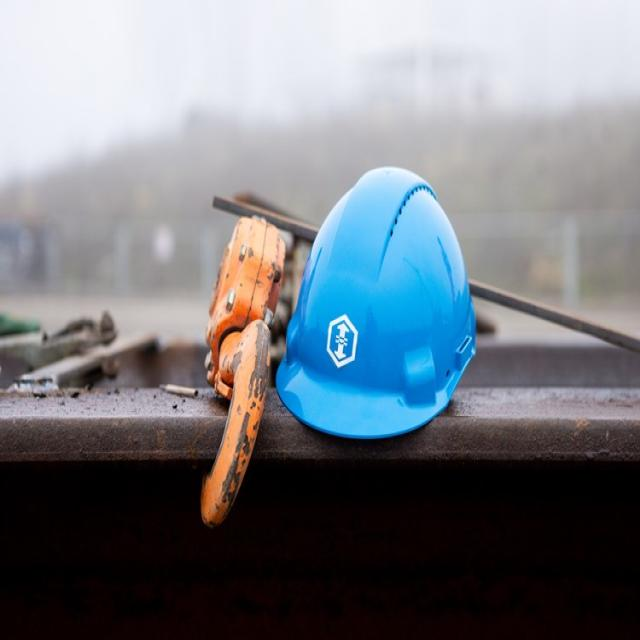helmet: (275, 139, 490, 450)
